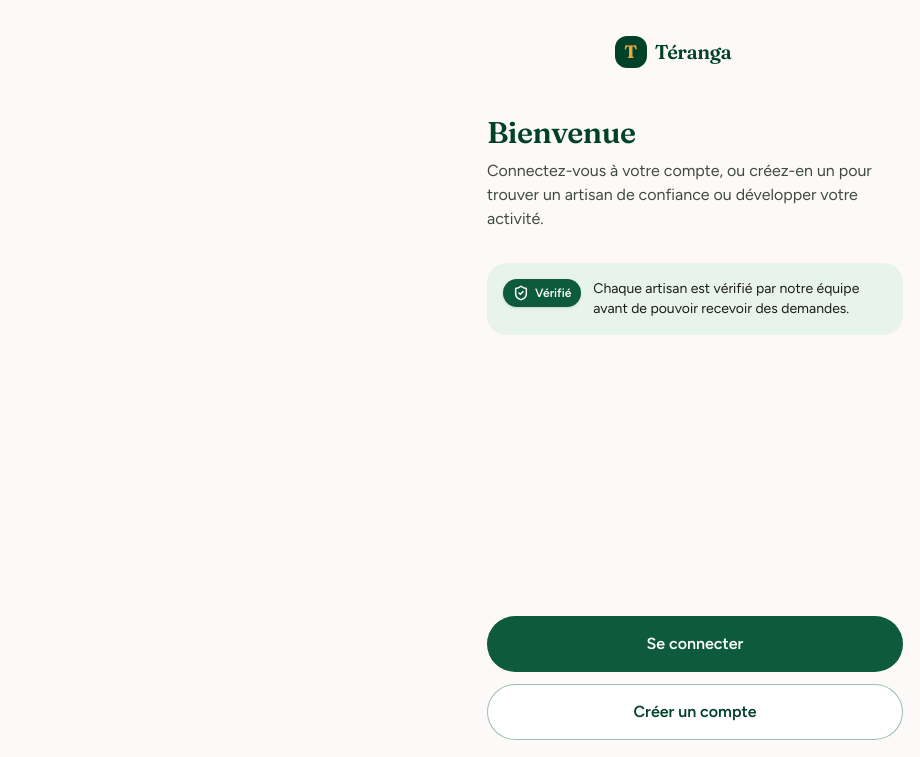
AuthEntryScreen › navigates to the phone step with intent=login on "Se connecter"
The image size is (920, 757).
Click the button "Se connecter".
click(695, 644)  # box [487,616,903,672]
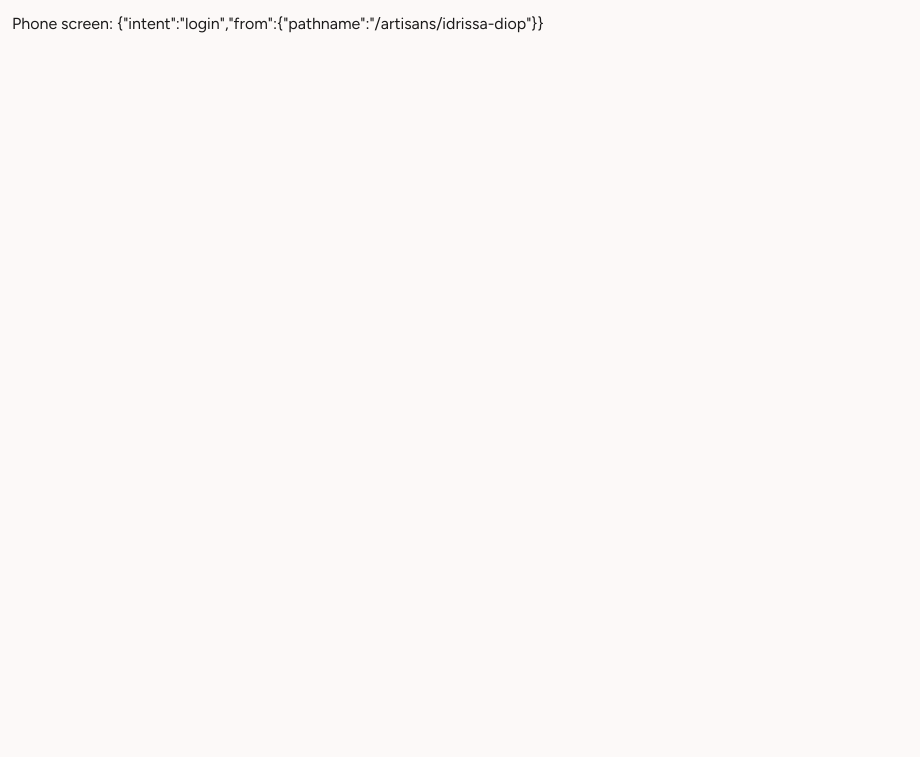
Result: the text "Phone screen: {\"intent\":\"login\",\"from\":{\"pathname\":\"/artisans/idrissa-diop\"}}" is shown at [12,14,544,33]
